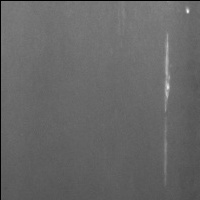scratches: (157, 29, 175, 189), (183, 4, 193, 17)
